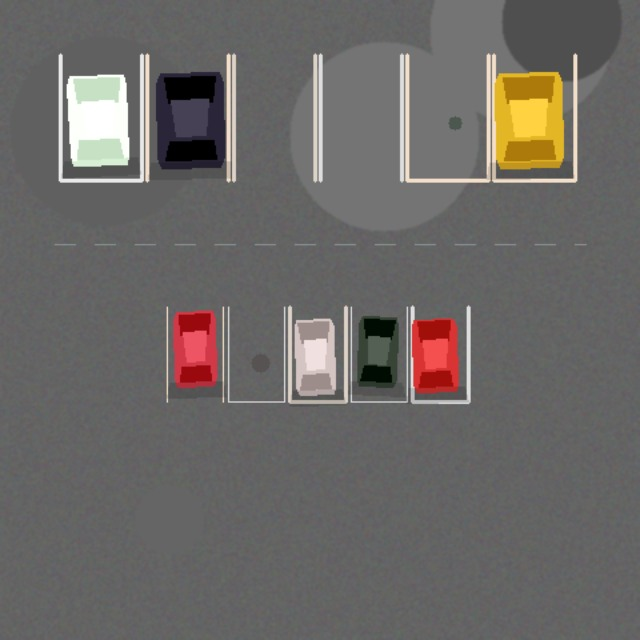space-empty: (233, 55, 315, 180), (320, 55, 401, 180), (407, 55, 488, 180), (228, 307, 284, 401)
space-occupied: (493, 55, 575, 180), (60, 55, 141, 180), (147, 55, 228, 180), (167, 307, 223, 401), (289, 307, 345, 401), (351, 307, 407, 401), (412, 307, 468, 401)
